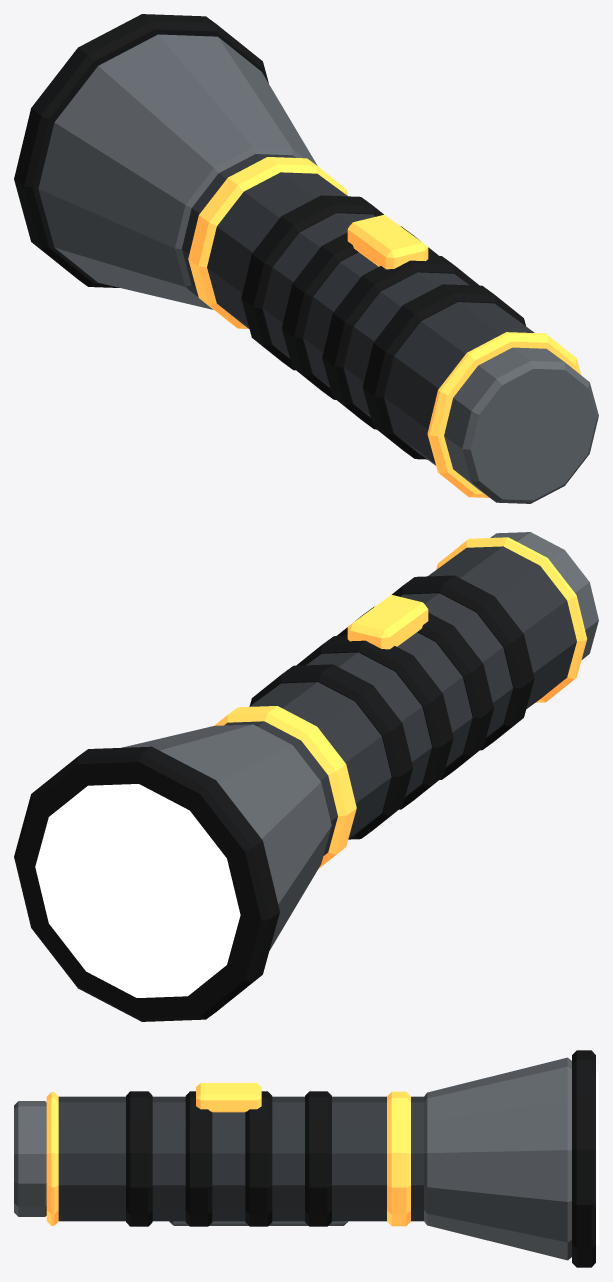
The model's file is flashlight.glb.
3 views of the same model, one above another, from view 1: azimuth 30°, elevation 25°; view 2: azimuth 150°, elevation 25°; view 3: azimuth 270°, elevation 25° (orthographic). The views are drawn at different scales.
Visible parts, largest first — view 1: Flashlight; view 2: Flashlight; view 3: Flashlight.
Boxes of the visible parts, x1,y1,x2,y2 form: Flashlight: (14, 14, 598, 503); Flashlight: (14, 532, 598, 1021); Flashlight: (14, 1050, 598, 1267).
Size of the model in its own units: 0.073 by 0.073 by 0.196.
